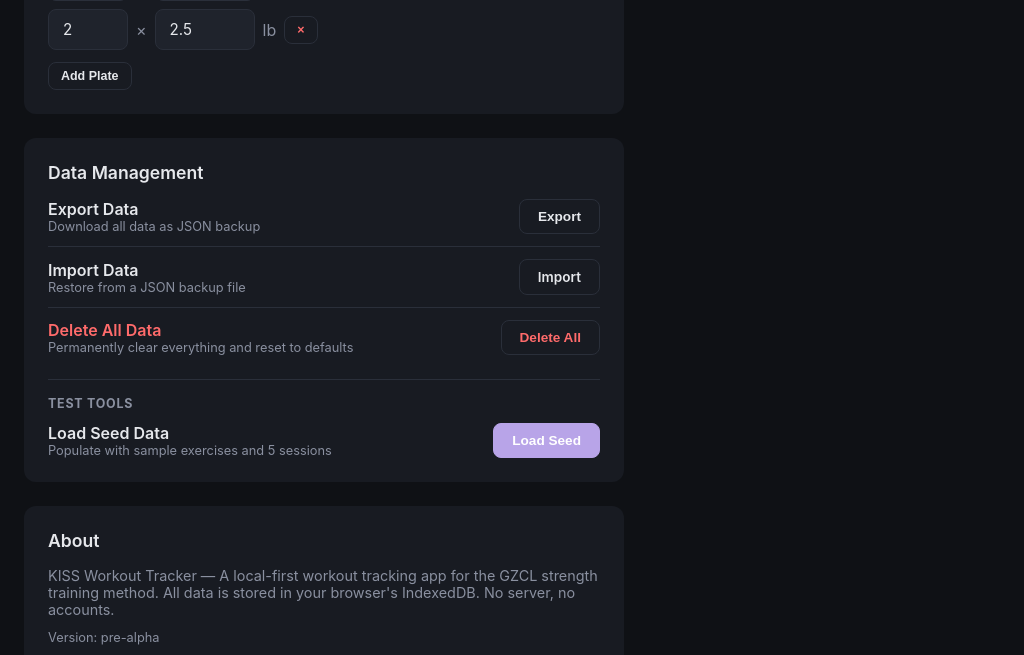
Scenario: SettingsPage › cancels load seed when not confirmed
(page scrolled)
# Click the "Load Seed" button on the page
Click the button "Load Seed" at (547, 440), box [493,423,600,458]
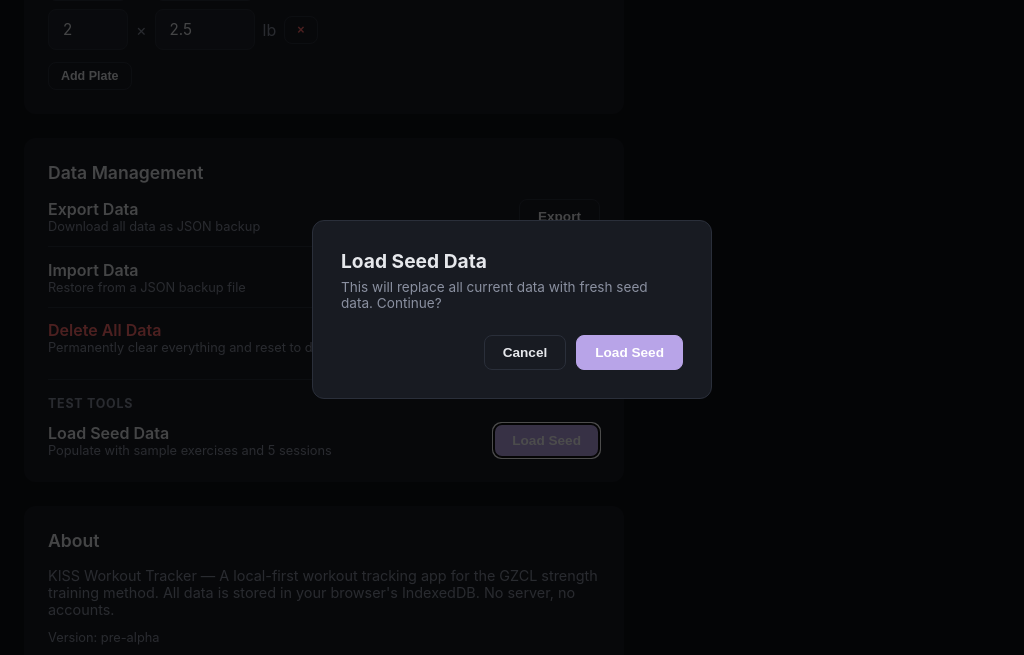
Expected: the text "This will replace all current data with fresh seed data. Continue?" is shown, [341,278,683,310]
# Click "Cancel"
Click the button "Cancel" at (525, 352), box [484,334,566,370]
(page scrolled)
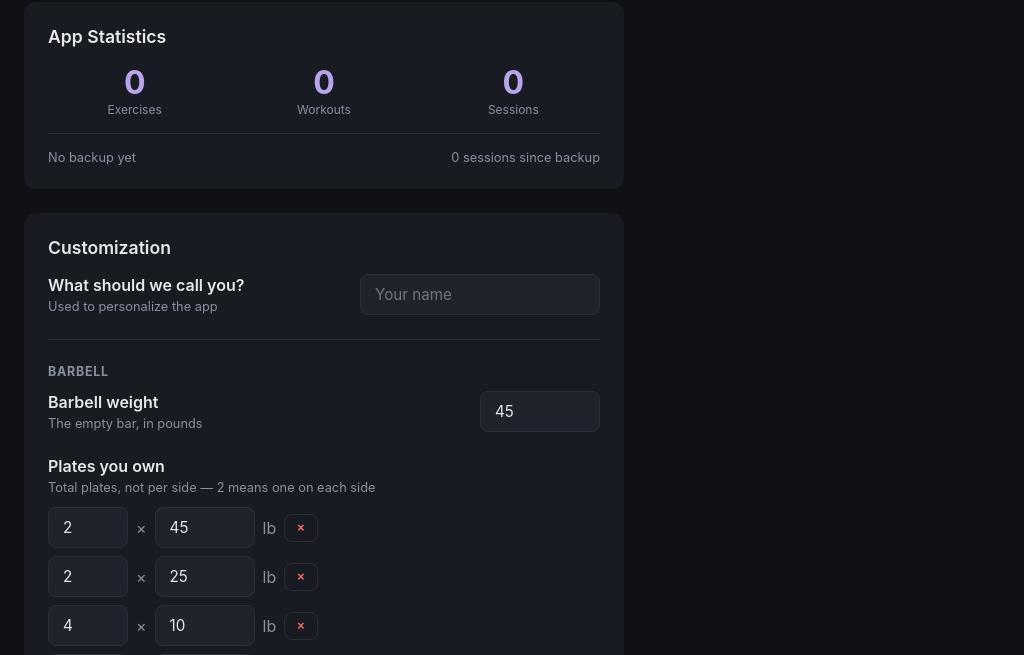
Expected: the 1st text "0" is shown, [124,63,146,102]
Expected: the text "This will replace all current data with fresh seed data. Continue?" is gone
